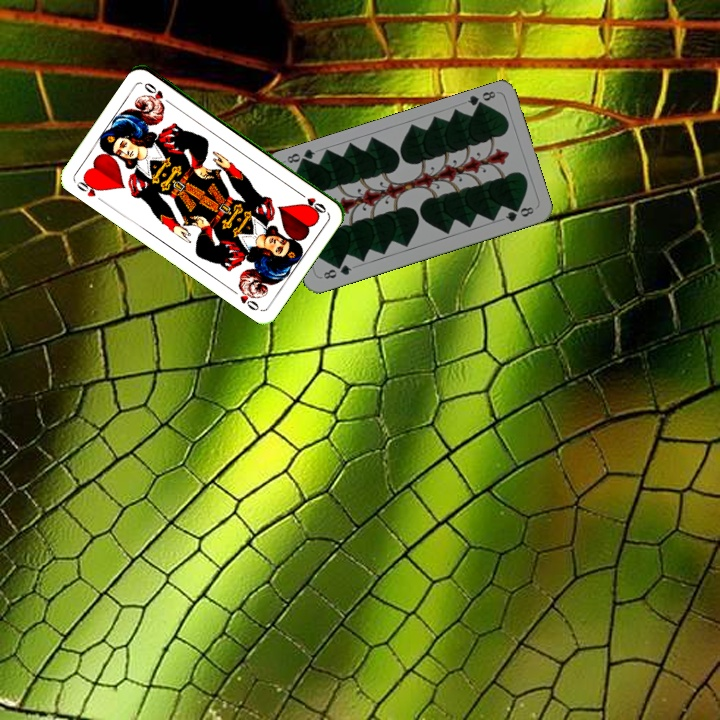G8: (463, 87, 498, 112), (319, 261, 354, 282)
HO: (294, 188, 329, 216), (71, 173, 105, 199)
